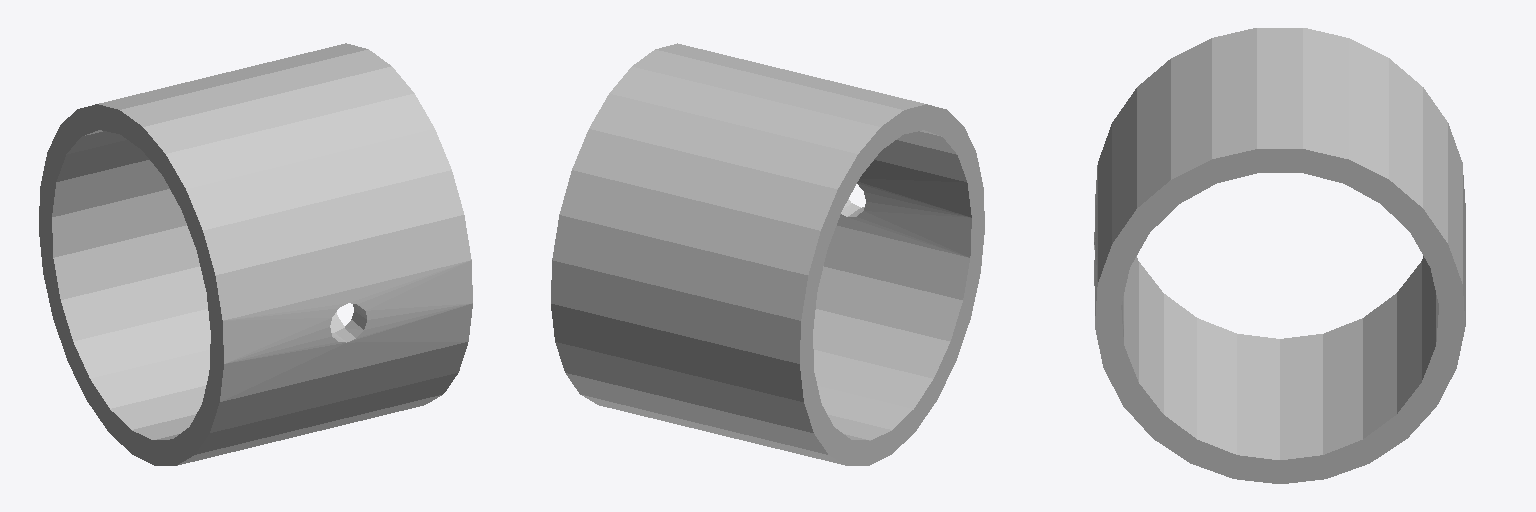
Rendered from Втулка шатуна.obj.
3 views of the same model, side by side, from view 1: azimuth 30°, elevation 25°; view 2: azimuth 150°, elevation 25°; view 3: azimuth 270°, elevation 25° (orthographic).
Visible parts, largest first — view 1: Втулка_шатуна; view 2: Втулка_шатуна; view 3: Втулка_шатуна.
Part boxes in pixels (x1,y1,x2,y2): Втулка_шатуна: (39,43,472,465); Втулка_шатуна: (551,43,984,465); Втулка_шатуна: (1094,28,1465,483).
Bounding box in the file's own units: 20 × 25.75 × 25.82.